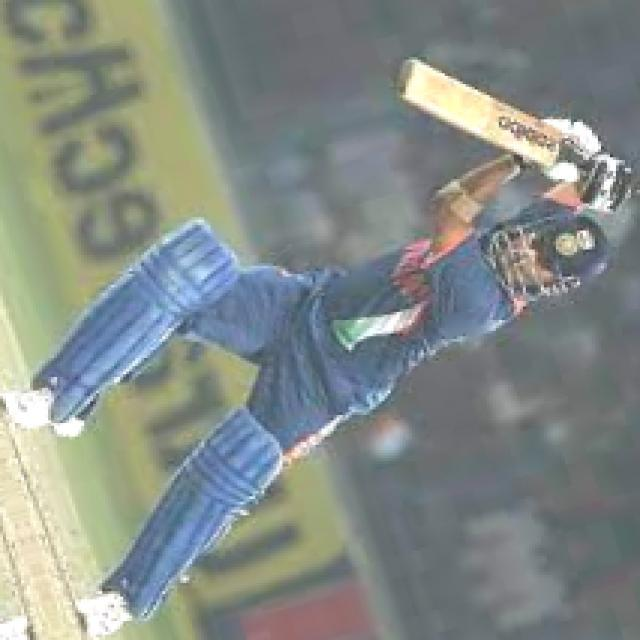bat: (385, 35, 586, 189)
toe: (388, 63, 420, 90)
